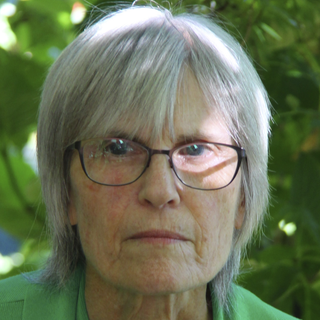eye: (95, 138, 140, 161), (175, 139, 221, 161)
